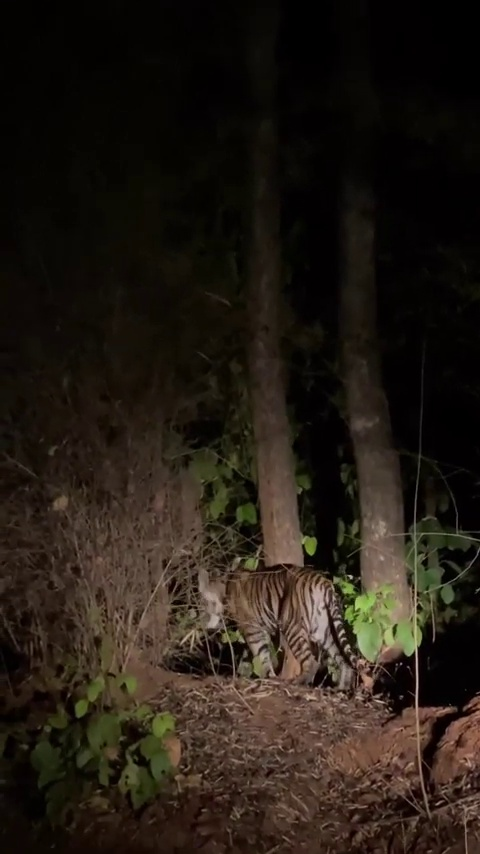Tiger: (194, 560, 370, 689)
